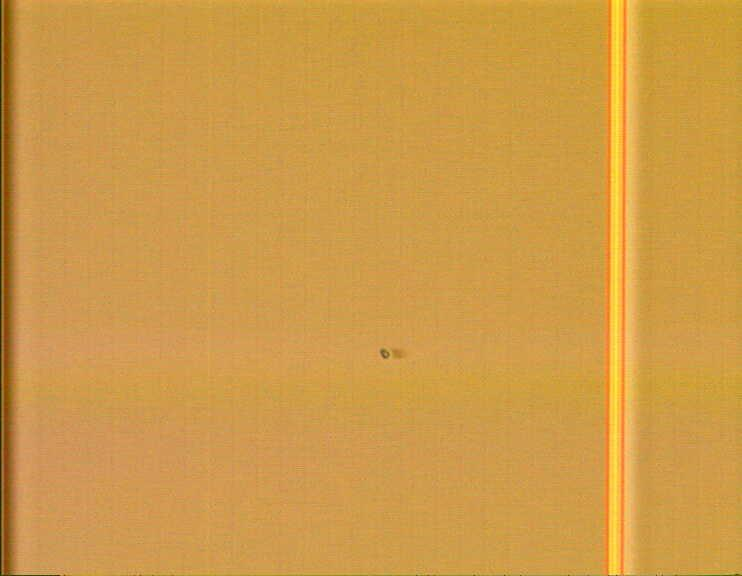PIQ PARTICLE: (371, 342, 412, 367)
